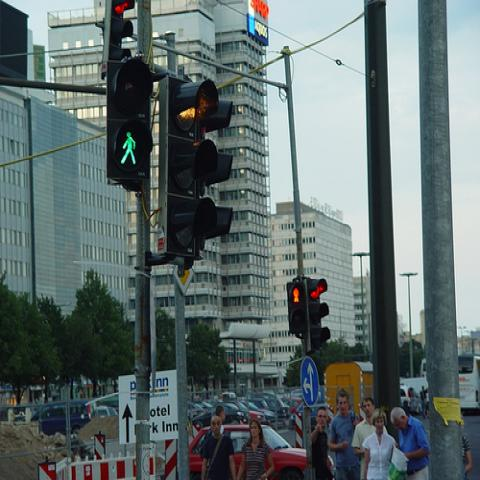bus: (458, 355, 479, 417)
car: (187, 422, 307, 476), (31, 398, 96, 437), (192, 402, 248, 429), (236, 401, 266, 425), (246, 402, 275, 426), (266, 398, 290, 417), (248, 398, 275, 412), (92, 405, 118, 419), (402, 383, 416, 405), (282, 398, 300, 414), (196, 401, 212, 410), (222, 392, 236, 401)
